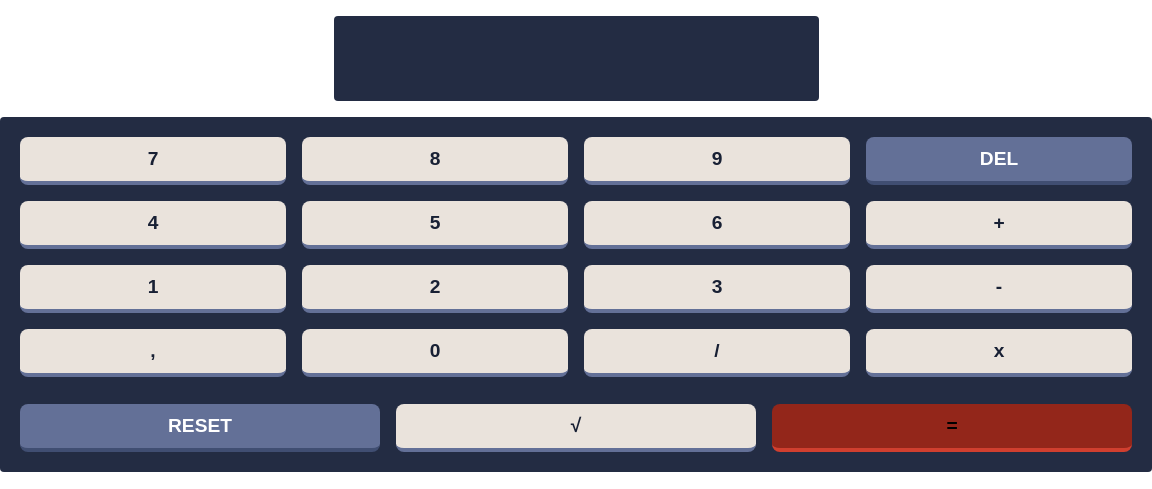
Test: <Calculator/> › should be able to delete a value
This screenshot has width=1152, height=489.
Click the button with test id "2" at (435, 289), box x1=302 y1=265 x2=568 y2=313
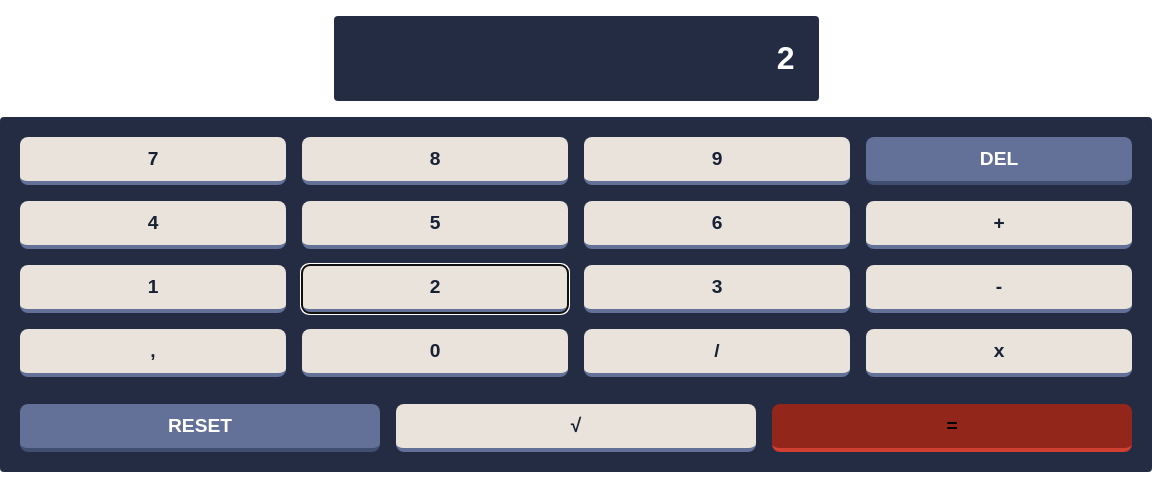
Click the button with test id "add-button" at (999, 225), box x1=866 y1=201 x2=1132 y2=249
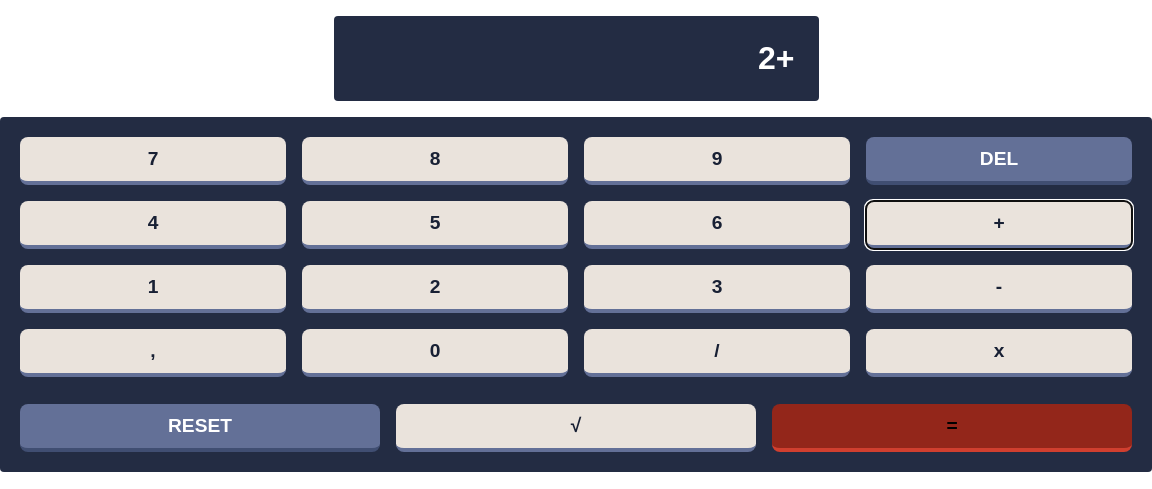
Click the button with test id "3" at (717, 289), box x1=584 y1=265 x2=850 y2=313
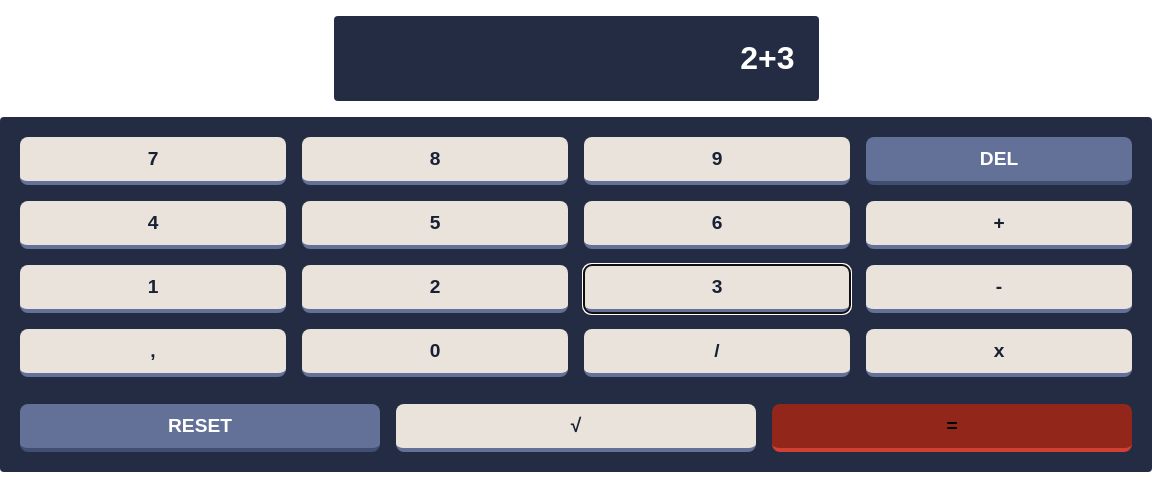
Click the button with test id "delete-button" at (999, 161), box x1=866 y1=137 x2=1132 y2=185
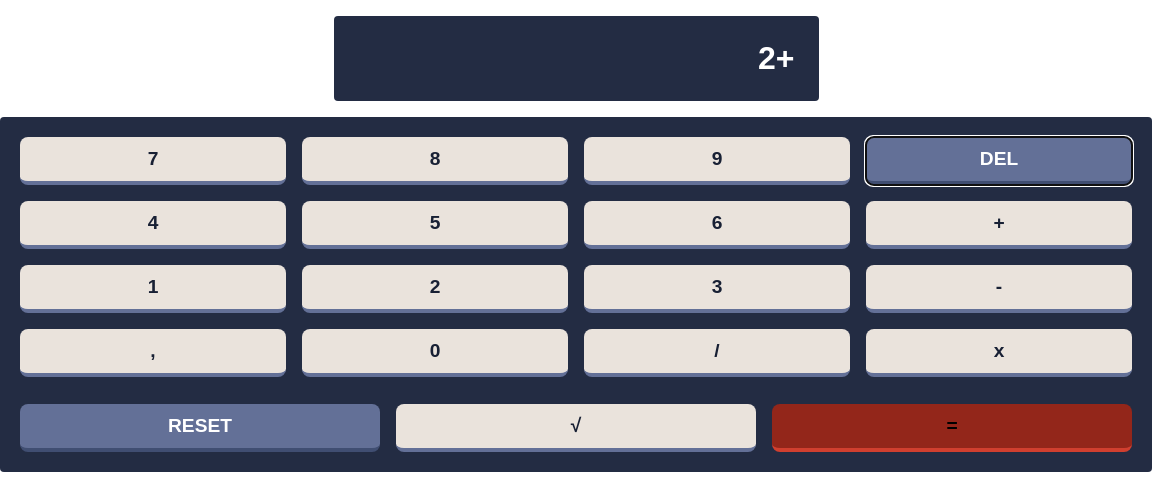
Check: the field with test id "input" holds "2+", box x1=334 y1=16 x2=818 y2=101
